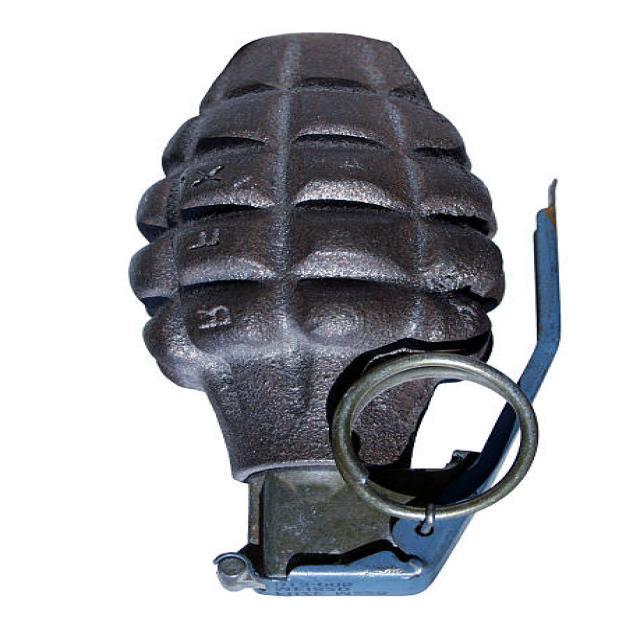grenade: (115, 34, 577, 602)
